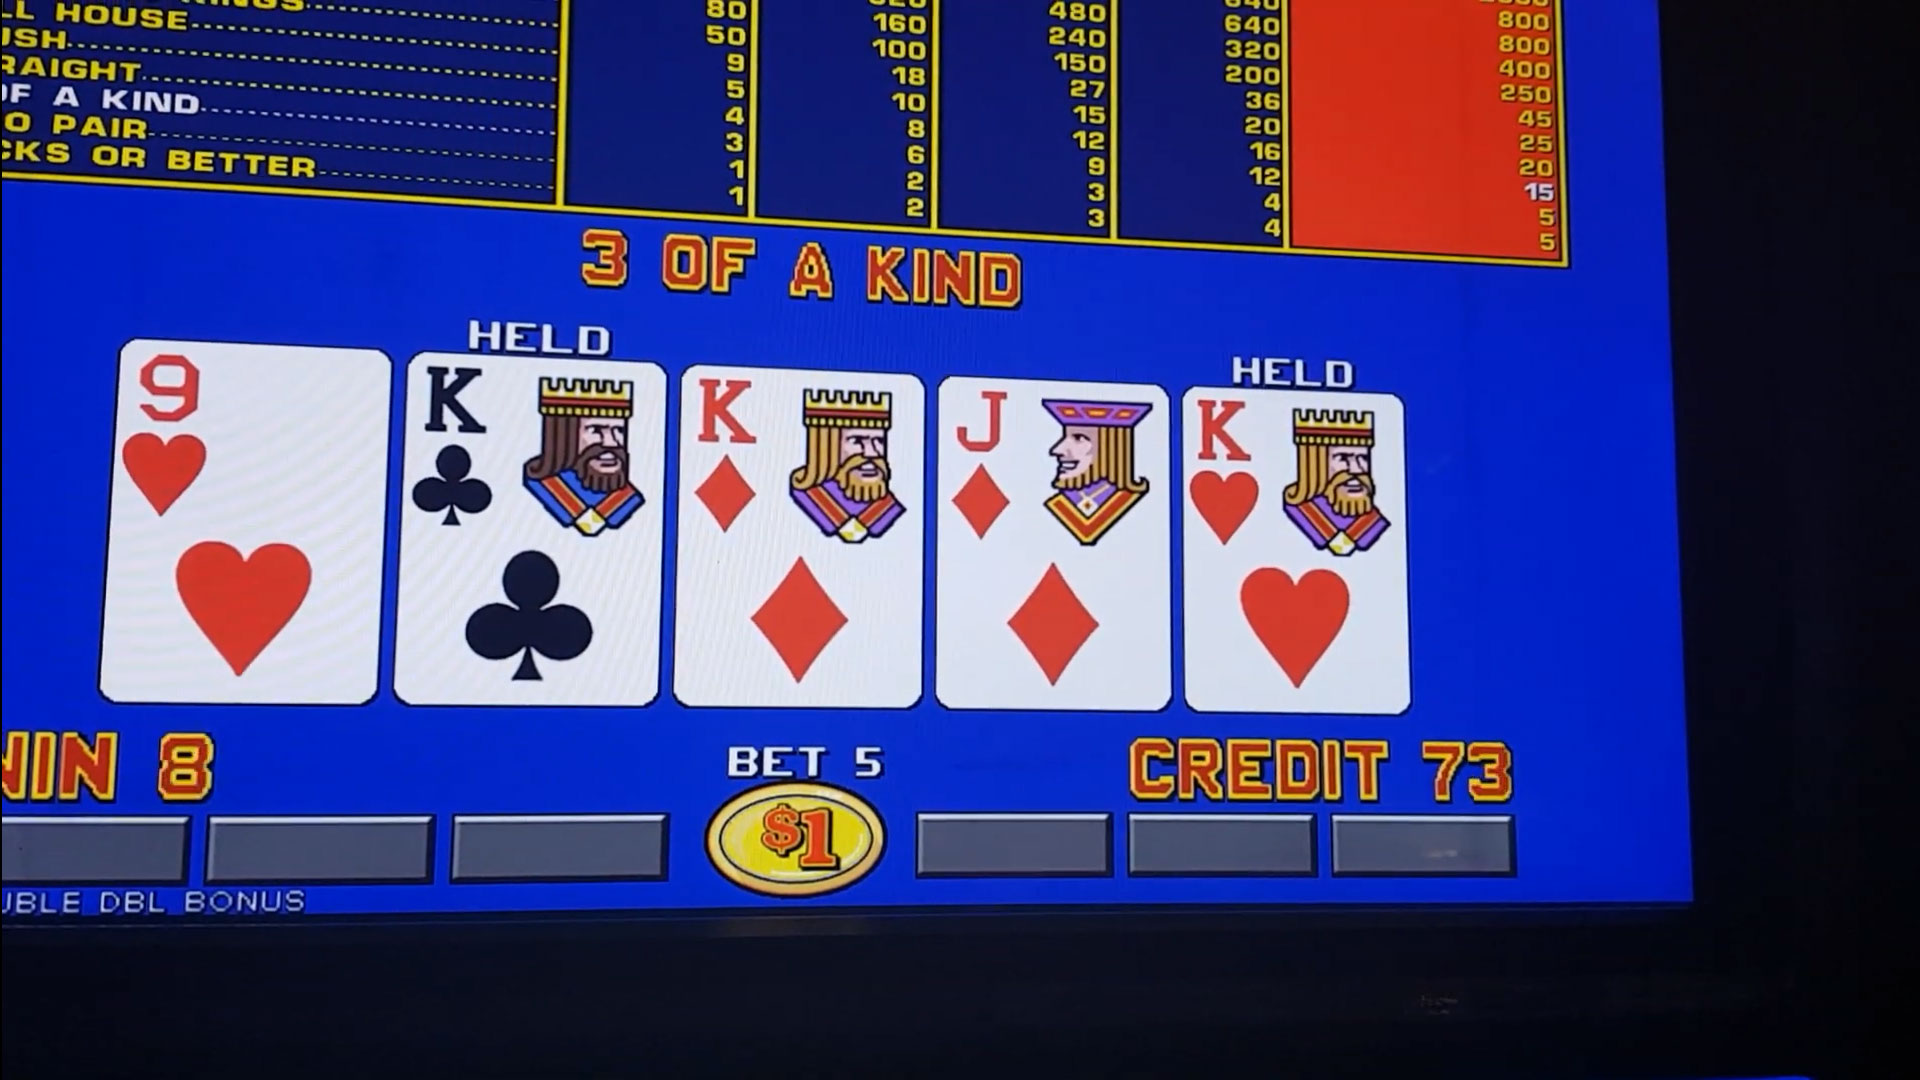CK: (409, 364, 666, 538)
DJ: (938, 384, 1164, 556)
DK: (682, 371, 911, 542)
H9: (125, 353, 385, 525)
HK: (1185, 396, 1400, 558)
